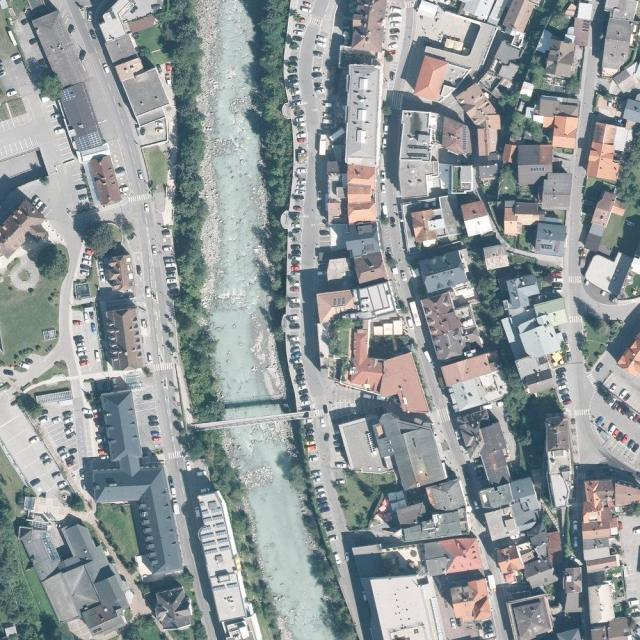building: (15, 498, 141, 640), (351, 535, 502, 640), (83, 453, 188, 590), (417, 283, 511, 415), (497, 287, 590, 397), (370, 401, 449, 495), (398, 111, 479, 202), (399, 194, 469, 297), (494, 532, 572, 598), (393, 479, 470, 544), (30, 8, 90, 91), (476, 474, 547, 544), (453, 80, 511, 159), (94, 283, 145, 372), (99, 389, 147, 479), (371, 351, 430, 424), (54, 81, 108, 159), (498, 199, 570, 256), (314, 280, 398, 328), (515, 144, 572, 211), (345, 64, 382, 166), (336, 415, 387, 481), (477, 38, 529, 100), (447, 15, 499, 74), (585, 121, 633, 184), (0, 198, 48, 260), (581, 242, 635, 297), (348, 319, 388, 392), (545, 415, 576, 509), (534, 26, 585, 82), (534, 96, 580, 149), (345, 234, 388, 286), (476, 422, 511, 485), (509, 594, 553, 640), (455, 408, 498, 455), (348, 0, 386, 53), (87, 152, 123, 207), (152, 585, 194, 632), (347, 165, 377, 224), (413, 55, 449, 103), (587, 189, 619, 238), (503, 273, 543, 312), (423, 40, 474, 68), (103, 253, 136, 294), (569, 0, 596, 48), (500, 0, 537, 35), (460, 199, 493, 237), (604, 61, 640, 95), (326, 161, 345, 223), (564, 568, 582, 613), (442, 62, 470, 90), (368, 318, 405, 338), (483, 243, 509, 270), (525, 520, 551, 547), (127, 13, 158, 35), (324, 257, 350, 281), (562, 566, 583, 593), (584, 232, 602, 253)
greenland: (181, 421, 303, 640), (244, 0, 296, 335), (490, 335, 575, 476), (319, 450, 404, 537), (548, 296, 624, 371), (505, 0, 582, 68), (275, 442, 327, 517), (93, 498, 143, 574), (467, 272, 513, 348), (502, 111, 550, 154), (302, 530, 337, 586), (80, 218, 122, 260), (133, 24, 170, 70), (600, 212, 629, 251), (35, 71, 66, 102), (524, 59, 550, 88), (498, 165, 518, 199)
metalled_road: (414, 351, 523, 640), (370, 47, 438, 374), (620, 514, 640, 607)
wetland: (174, 0, 291, 421)
